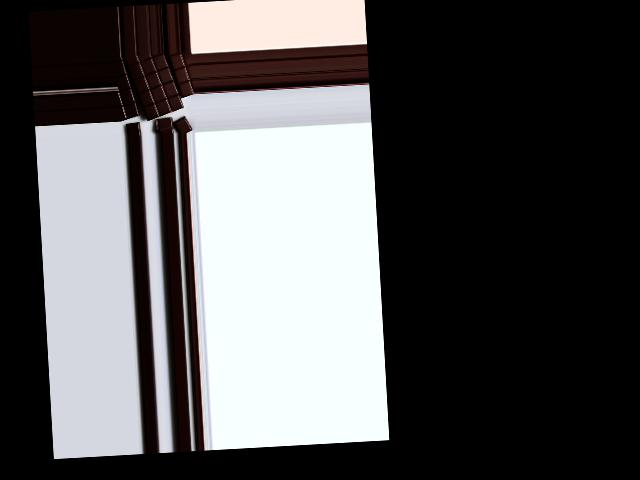chocolate: (126, 52, 185, 120)
